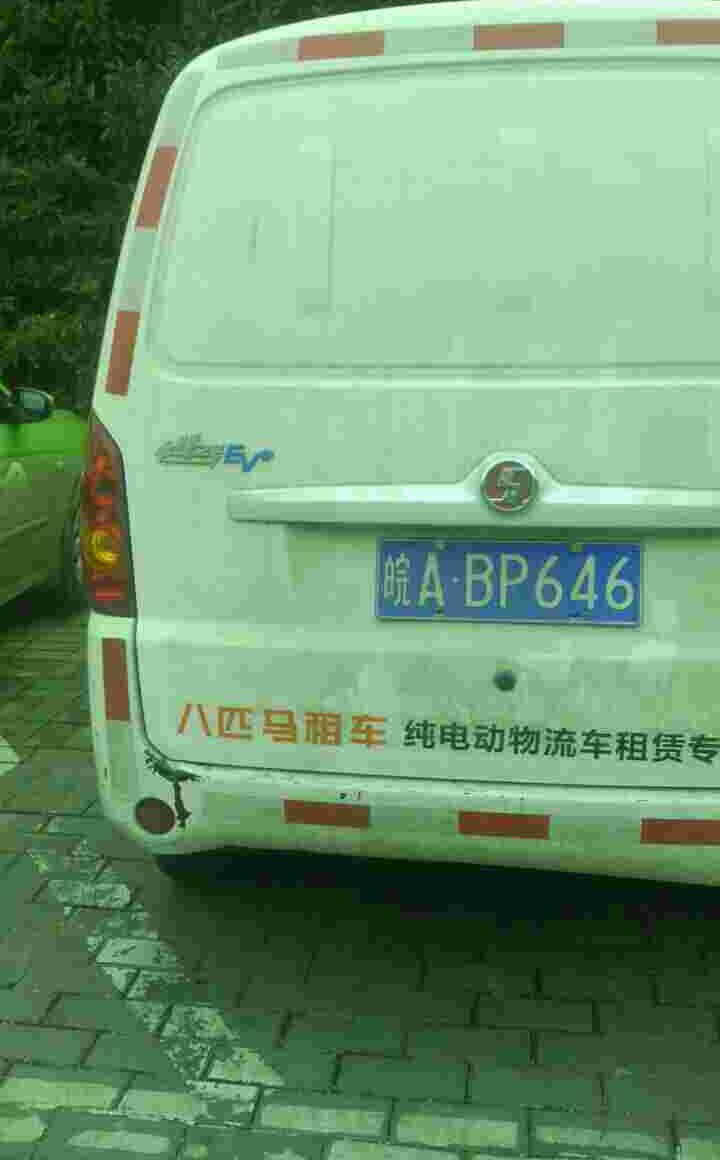plate: (375, 533, 649, 629)
